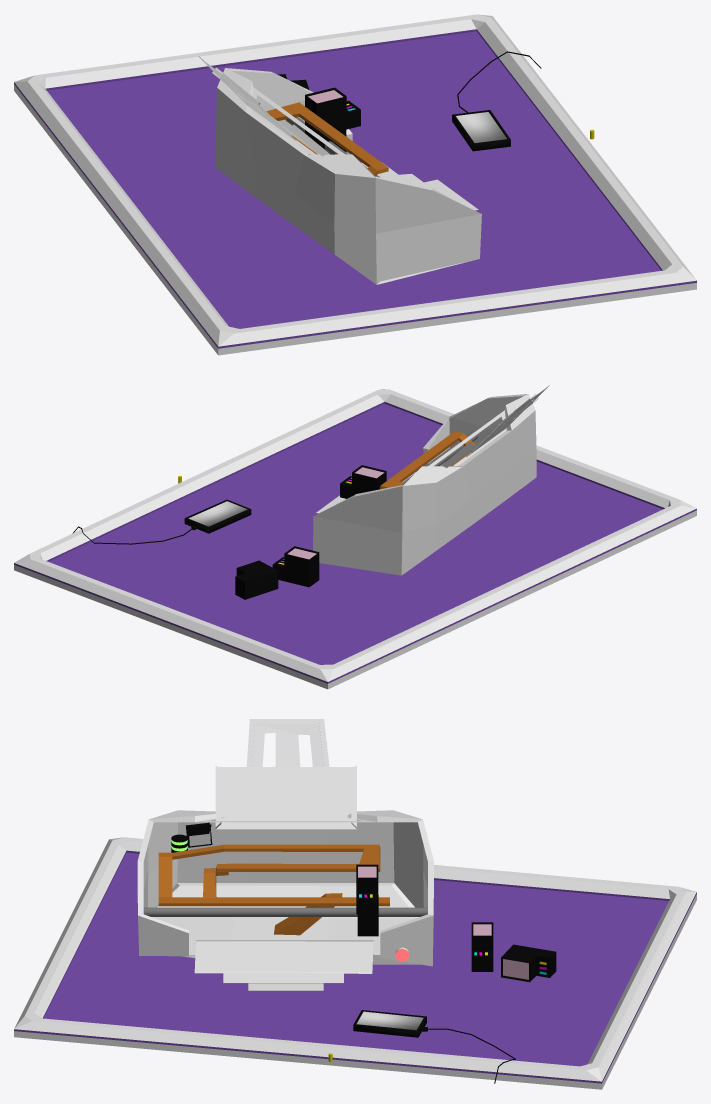
The model's file is printerInteriorVersion2.fbx.
3 renders of one model, top to bottom at view 1: azimuth 30°, elevation 25°; view 2: azimuth 150°, elevation 25°; view 3: azimuth 270°, elevation 25°, orthographic. The views are drawn at different scales.
Visible parts, largest first — view 1: TablePlane, PrinterShell, Platform/Phone, Ramp, InkCartridge; view 2: TablePlane, PrinterShell, Platform/Phone, InkCartridge.001, InkCartridge.002, Ramp, InkCartridge; view 3: TablePlane, PrinterShell, Ramp, StabillizerBar, Platform/Phone, InkCartridge.002, InkCartridge, InkCartridge.001, SIgn.
Part boxes in pixels (left/top/right/bottom): TablePlane: left=14, top=14, right=696, bottom=355; PrinterShell: left=198, top=56, right=481, bottom=284; Platform/Phone: left=452, top=51, right=541, bottom=151; Ramp: left=266, top=102, right=388, bottom=176; InkCartridge: left=305, top=87, right=360, bottom=135; TablePlane: left=14, top=389, right=696, bottom=689; PrinterShell: left=313, top=385, right=549, bottom=575; Platform/Phone: left=72, top=499, right=251, bottom=544; InkCartridge.001: left=272, top=546, right=319, bottom=587; InkCartridge.002: left=235, top=560, right=278, bottom=599; Ramp: left=380, top=431, right=475, bottom=489; InkCartridge: left=340, top=465, right=386, bottom=498; TablePlane: left=14, top=837, right=696, bottom=1089; PrinterShell: left=137, top=718, right=433, bottom=990; Ramp: left=158, top=844, right=389, bottom=935; StabillizerBar: left=143, top=907, right=427, bottom=916; Platform/Phone: left=353, top=1010, right=515, bottom=1083; InkCartridge.002: left=501, top=944, right=556, bottom=982; InkCartridge: left=356, top=864, right=378, bottom=914; InkCartridge.001: left=471, top=922, right=493, bottom=971; SIgn: left=185, top=822, right=212, bottom=847.
Size of the model in its own units: 864 by 287 by 1029.
